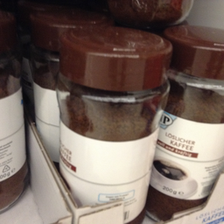coffee: (57, 26, 169, 224), (156, 17, 224, 222)
